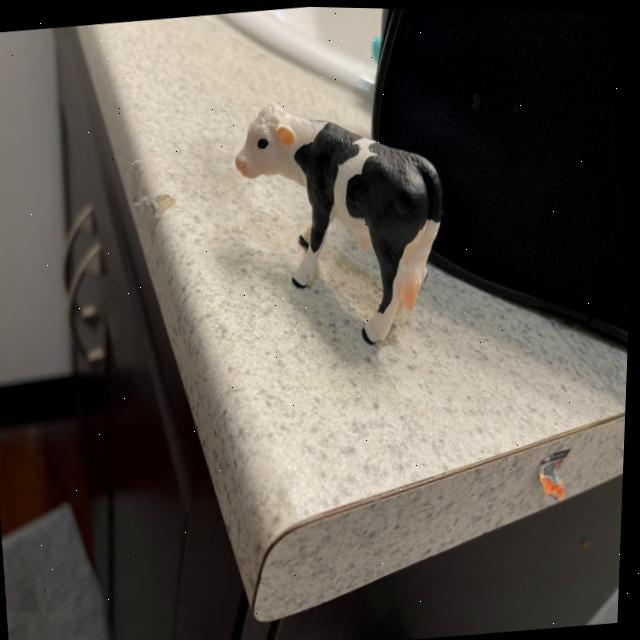cow: (193, 94, 466, 352)
